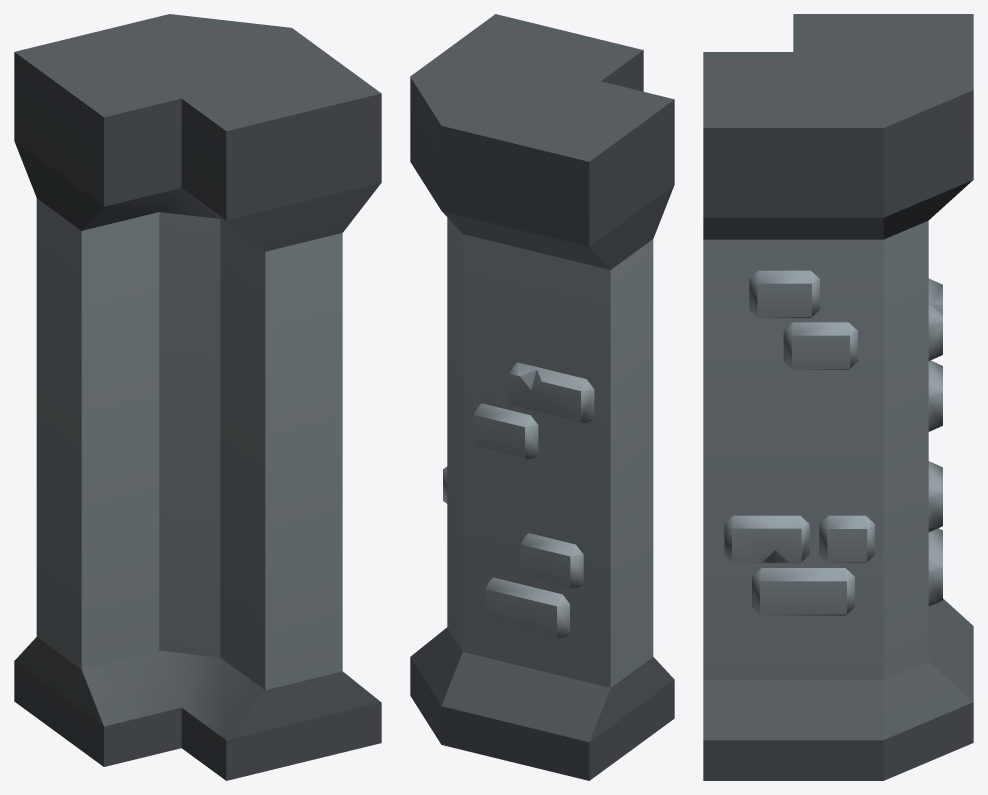
The model's file is wall_corner_small.glb.
The picture shows the model from 3 angles, left to right: view 1: azimuth 30°, elevation 25°; view 2: azimuth 150°, elevation 25°; view 3: azimuth 270°, elevation 25°; orthographic projection. The views are drawn at different scales.
Visible parts, largest first — view 1: wall_corner_small; view 2: wall_corner_small; view 3: wall_corner_small.
Part boxes in pixels (x1,y1,x2,y2): wall_corner_small: (14, 14, 381, 780); wall_corner_small: (410, 14, 674, 780); wall_corner_small: (703, 14, 973, 780).
Bounding box in the file's own units: 1.5 × 4 × 1.5.
1 material, 1 textured.
